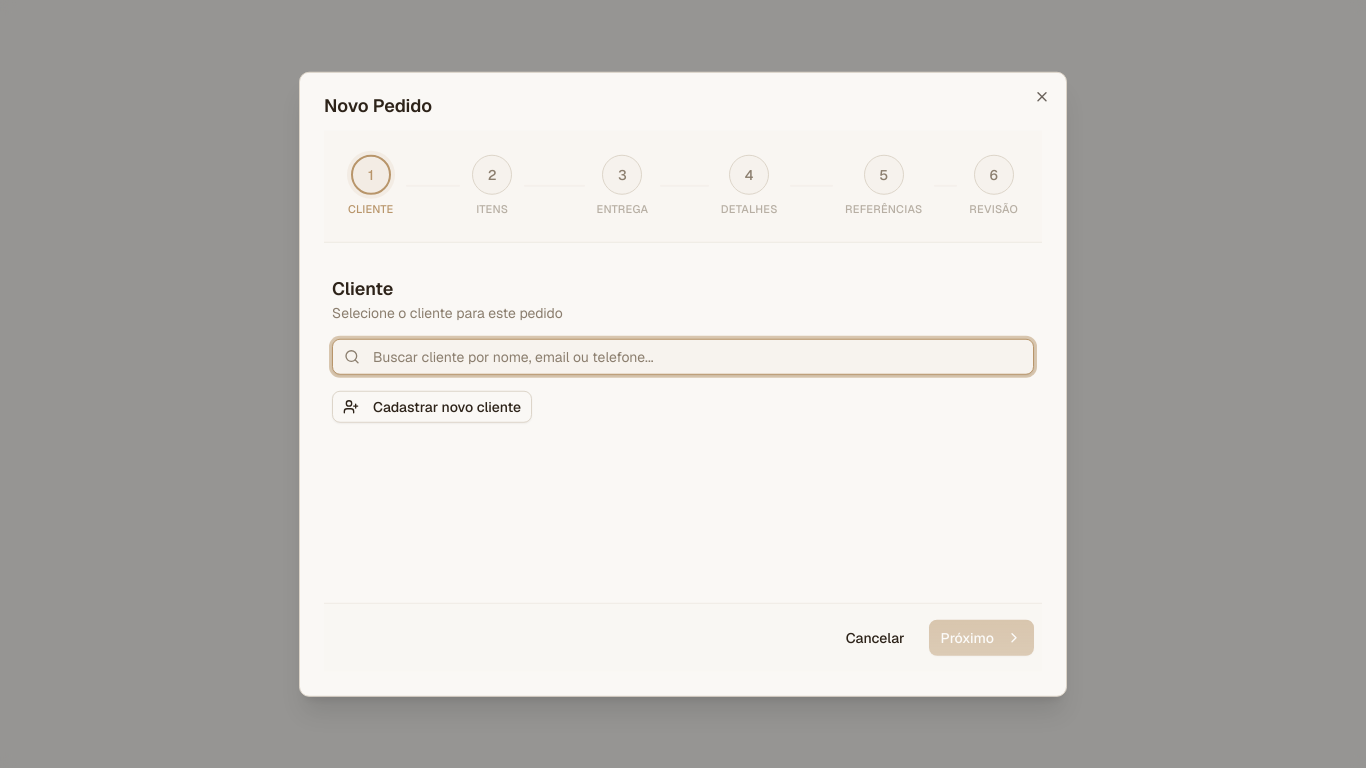
Test: PedidoFormDialog › keeps the wizard mounted when ClienteStep opens its nested dialog
Expected: the number of dialogs is 1, top-left (299, 72), bottom-right (1067, 696)
Click the button "Cadastrar novo cliente" at (432, 406), box top-left (332, 390), bottom-right (532, 422)
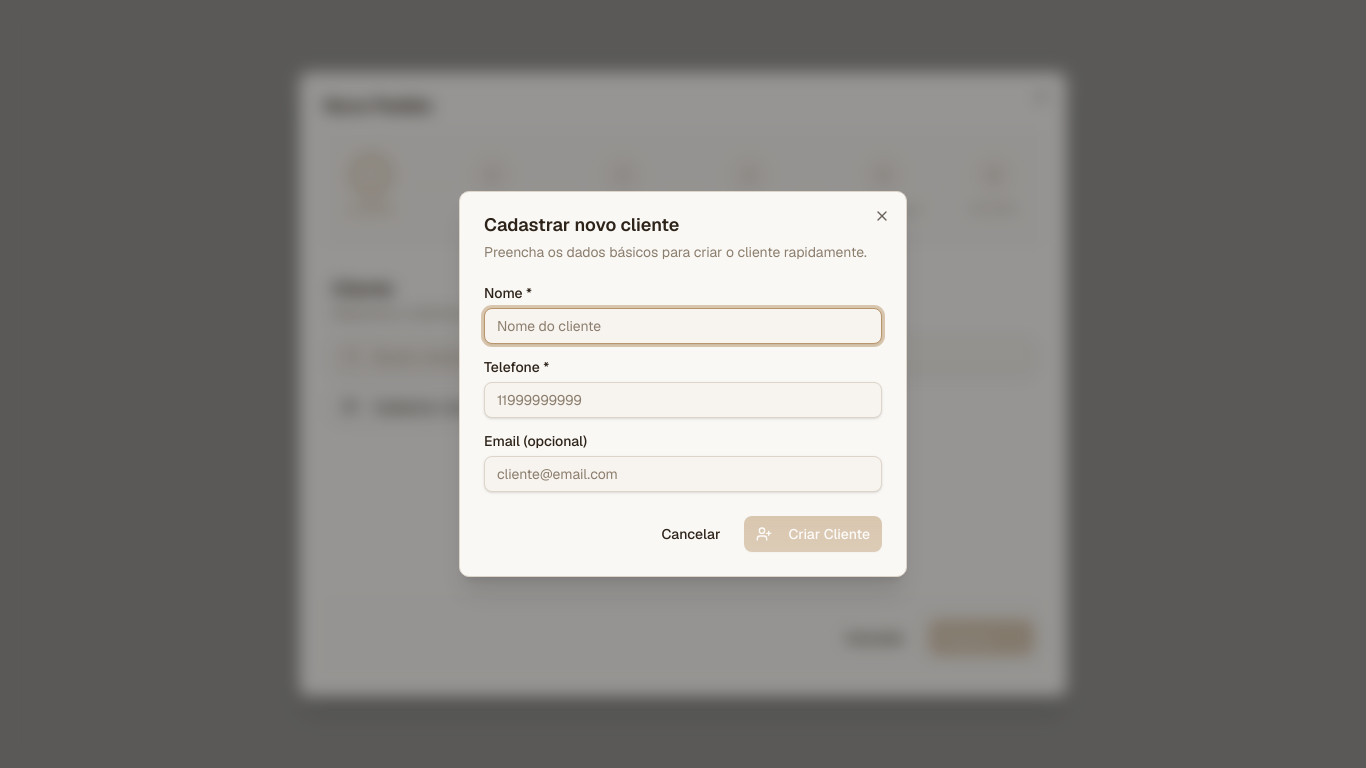
Expected: the text "Selecione o cliente para este pedido" is shown, top-left (332, 303), bottom-right (563, 321)
Expected: the number of dialogs is 2, top-left (299, 72), bottom-right (1067, 696); top-left (459, 191), bottom-right (907, 577)
Expected: the field labelled "Nome *" is shown, top-left (484, 308), bottom-right (882, 344)
